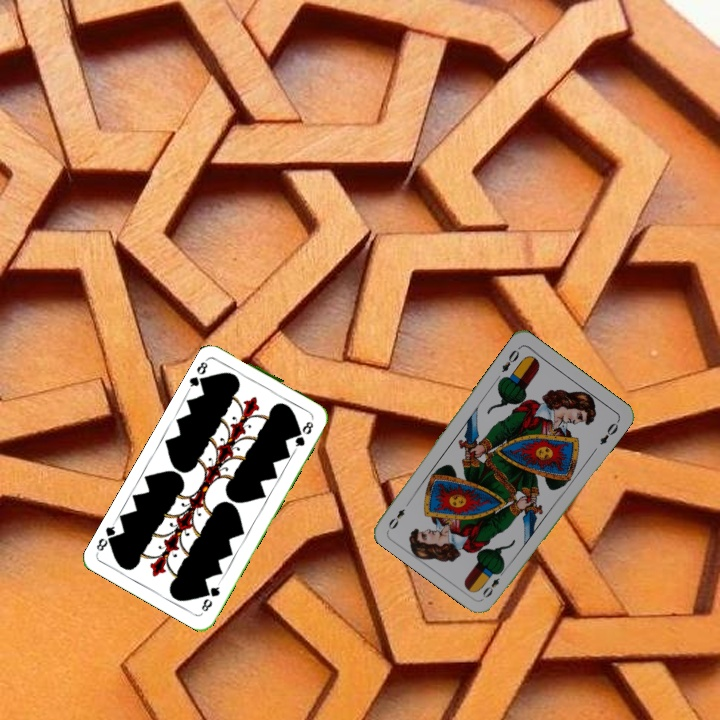EO: (478, 565, 508, 601), (497, 343, 523, 375)
G8: (185, 354, 211, 391), (197, 578, 223, 614)
